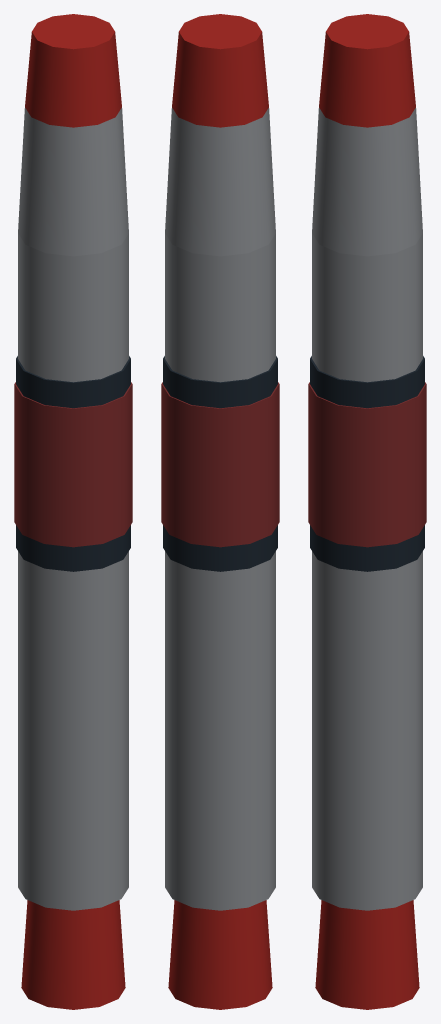
File: haem-serum.glb
3 views of the same model, side by side, from view 1: azimuth 90°, elevation 25°; view 2: azimuth 150°, elevation 25°; view 3: azimuth 270°, elevation 25° (orthographic).
Parts seen in each view (by area): view 1: haem-serum; view 2: haem-serum; view 3: haem-serum.
Boxes of the visible parts, x1,y1,x2,y2 form: haem-serum: (14, 14, 132, 1009); haem-serum: (161, 14, 279, 1009); haem-serum: (308, 14, 426, 1009).
Bounding box in the file's own units: 0.017 × 0.152 × 0.017.
Materials: 1 (1 with a texture image).
